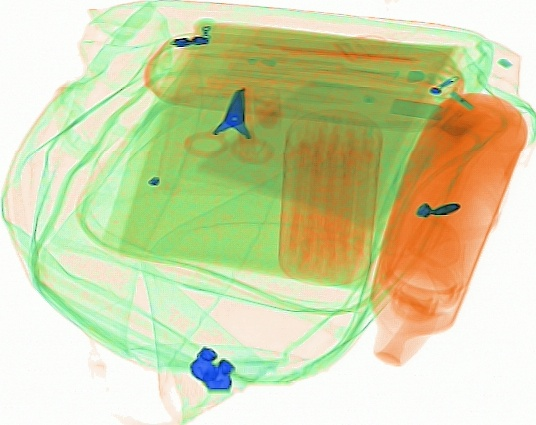scissors: (180, 84, 275, 165)
